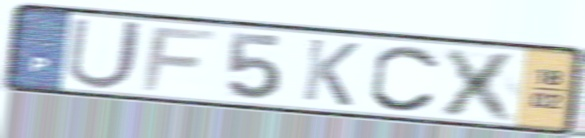5: (225, 29, 288, 101)
C: (366, 42, 444, 115)
F: (138, 25, 220, 94)
K: (298, 35, 363, 109)
U: (63, 15, 148, 92)
X: (434, 45, 525, 125)
